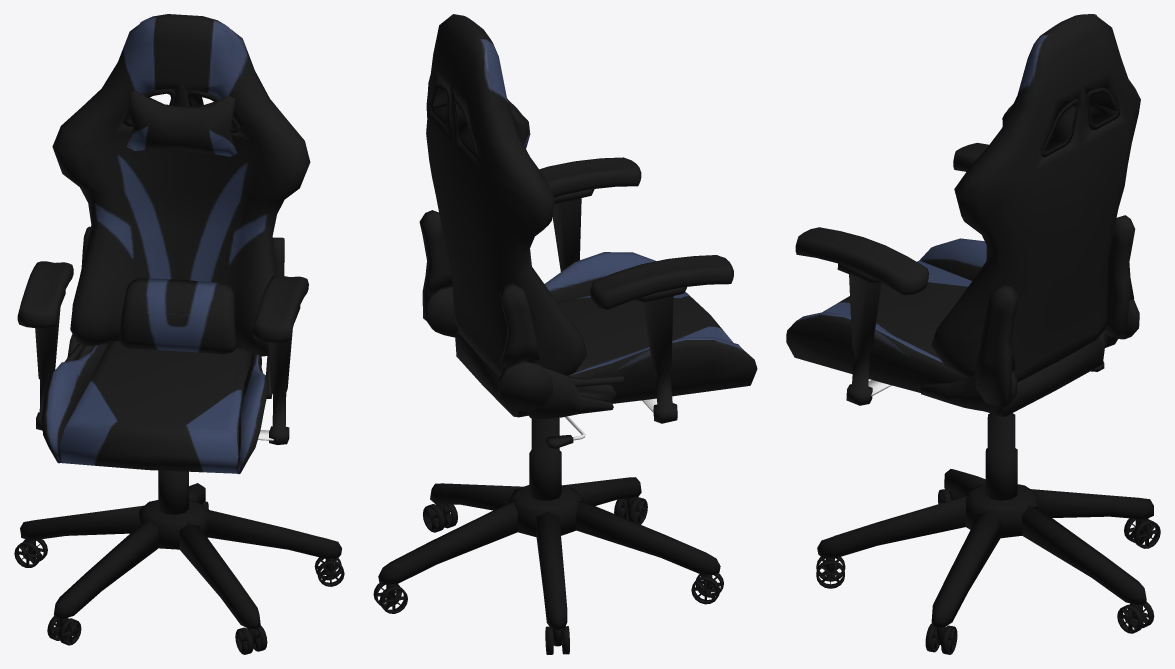
Rendered from chair.glb.
3 renders of one model, left to right at view 1: azimuth 30°, elevation 25°; view 2: azimuth 150°, elevation 25°; view 3: azimuth 270°, elevation 25°, orthographic. The views are drawn at different scales.
Visible parts, largest first — view 1: whole_boundary_Plane.004; view 2: whole_boundary_Plane.004; view 3: whole_boundary_Plane.004.
Boxes of the visible parts, box(x1,y1,x2,y2) form: whole_boundary_Plane.004: box(14, 14, 344, 654); whole_boundary_Plane.004: box(373, 14, 757, 654); whole_boundary_Plane.004: box(786, 14, 1160, 654).
Size of the model in its own units: 2.67 by 4.5 by 2.61.
3 materials, 2 textured.
